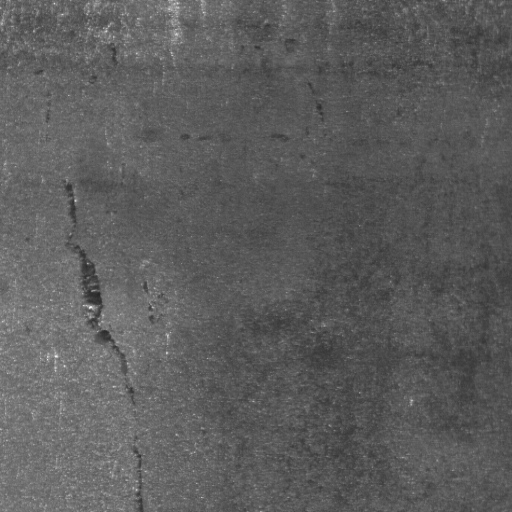aokeng: (61, 178, 110, 336)
